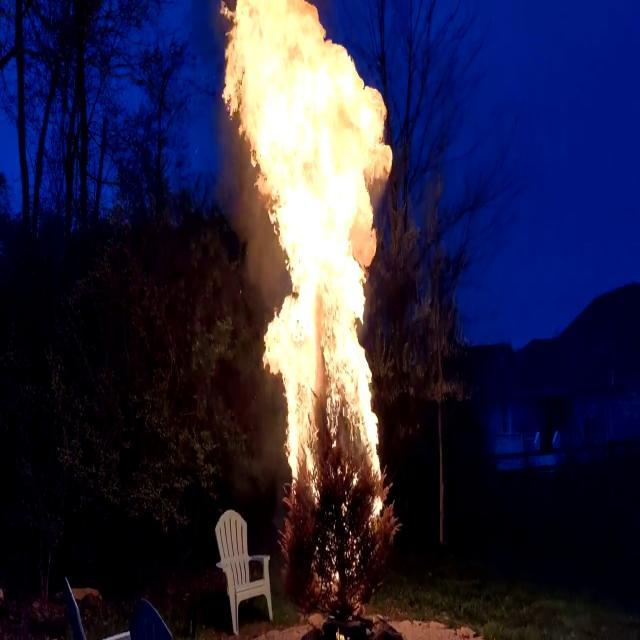Fire: (197, 2, 399, 505)
